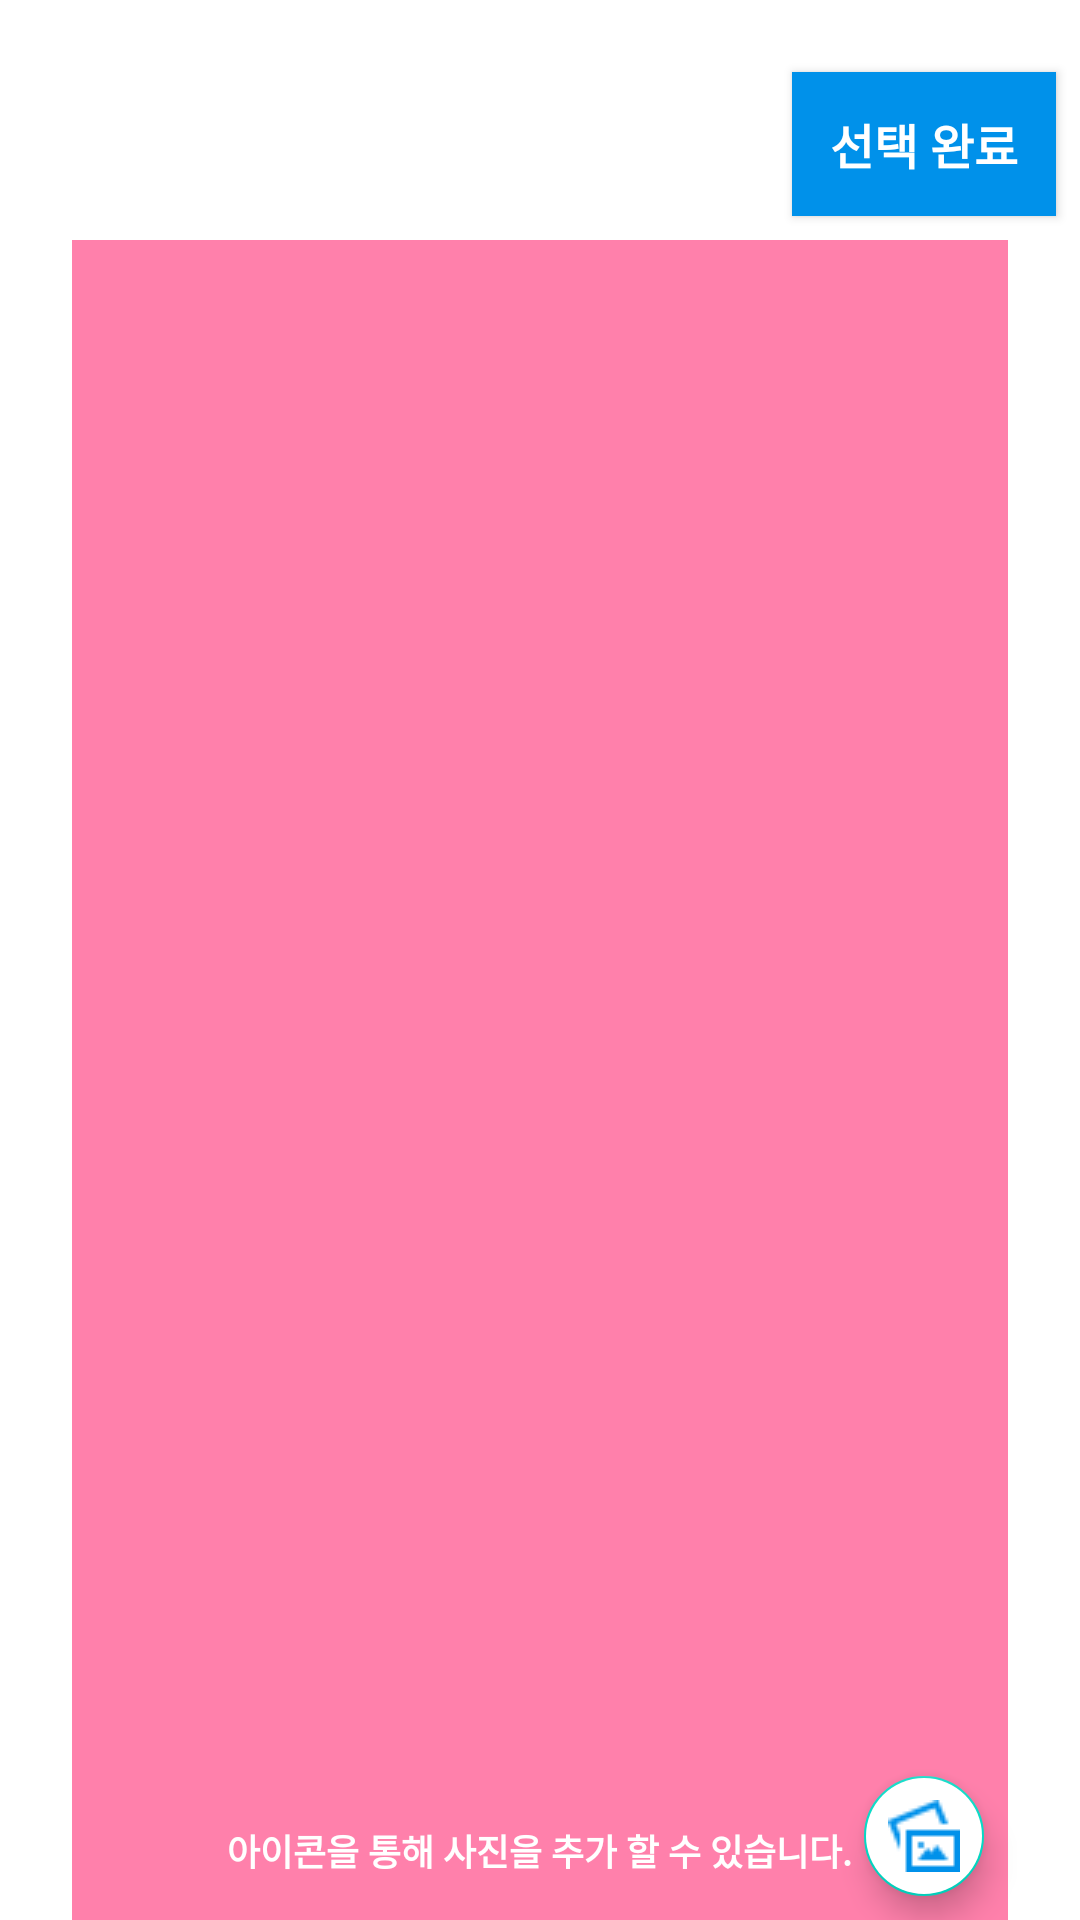

Locate icon controls on the screen. Image size 1080px×1920px, boxes as {"x1": x1, "y1": y1, "x2": x2, "y2": y2}.
gallery: {"x1": 864, "y1": 1776, "x2": 984, "y2": 1896}
